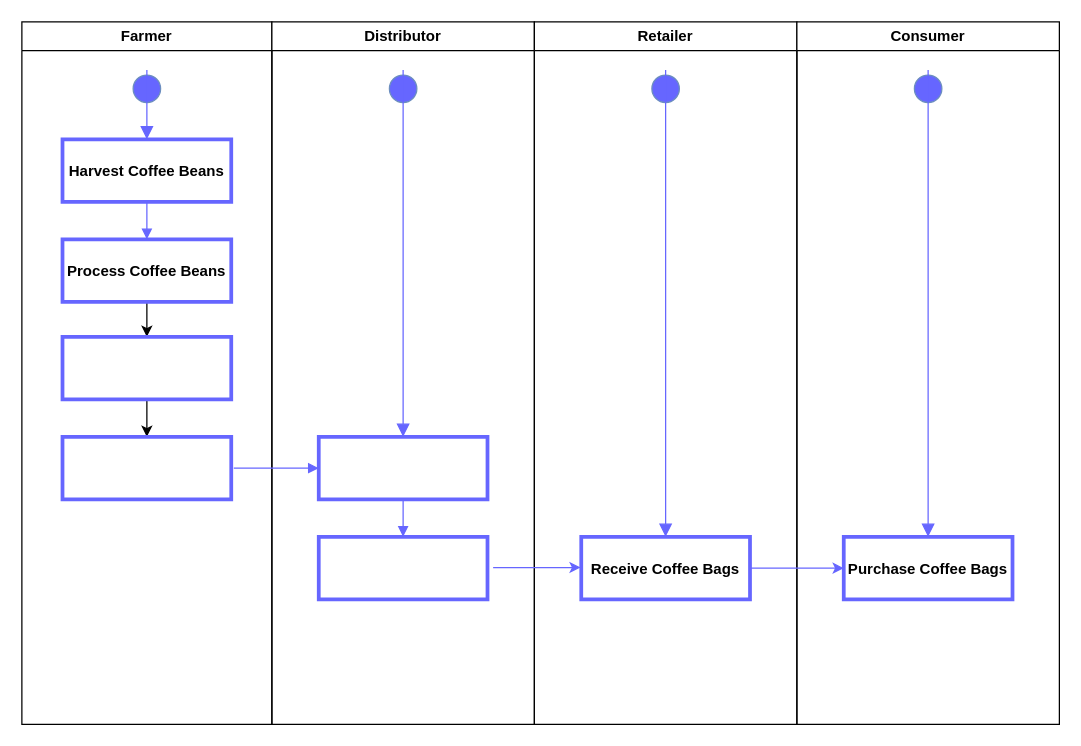
Image size: 1081x746. Some labels were removed from this diagram. Here are the shapes that lost their labels. From the top down, the centre of each, then its label:
At point 146,367: "Pack Coffee Bags".
At point 146,467: "Sell Coffee Bags".
At point 402,467: "Buy Coffee Bags".
At point 402,567: "Ship Coffee Bags".
